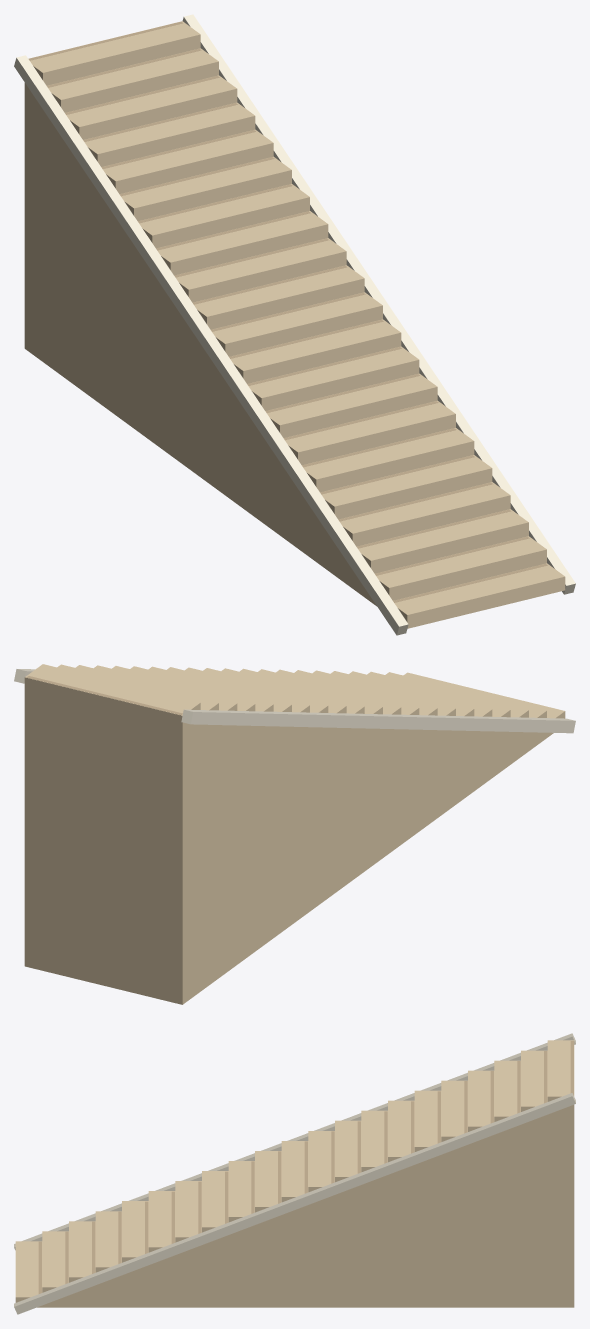
Rendered from SD_Stair.fbx.
3 renders of one model, top to bottom at view 1: azimuth 30°, elevation 25°; view 2: azimuth 150°, elevation 25°; view 3: azimuth 270°, elevation 25°, orthographic. The views are drawn at different scales.
Visible parts, largest first — view 1: SD_Stair; view 2: SD_Stair; view 3: SD_Stair.
Boxes of the visible parts, left/top/right/bottom form: SD_Stair: left=14, top=14, right=575, bottom=635; SD_Stair: left=14, top=664, right=575, bottom=1004; SD_Stair: left=14, top=1033, right=575, bottom=1314.
Size of the model in its own units: 2.24 by 3.63 by 8.45.
